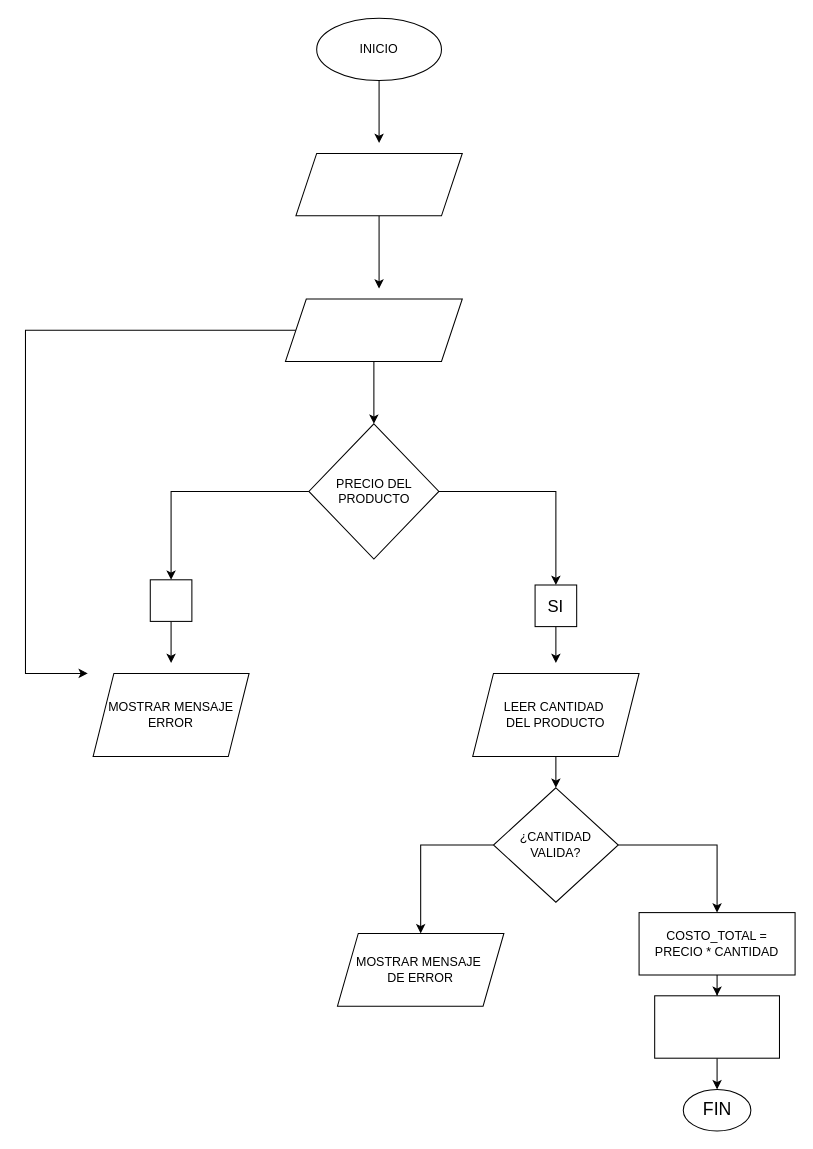
Some shapes in this 813 by 1149 pixel diagram are drawn without their labels. The shapes that lost their labels are listed below. From the top down, each one's centre as x and y in pixels, then its label:
At [378,184]: "INTRODUCE NOMBRE DEL PRODUCTO".
At [373,329]: "INTRODUCE PRECIO DEL PRODUCTO".
At [170,600]: "NO".
At [716,1026]: "MOSTRAR RESULTADO".
